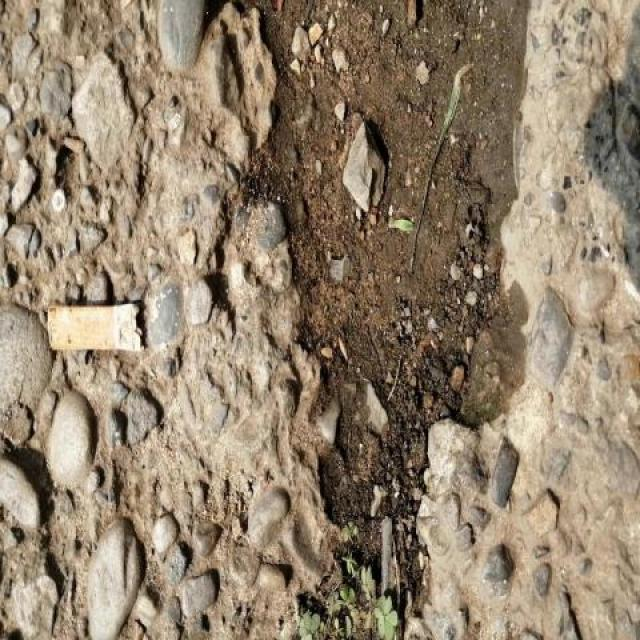non-organic waste: (41, 294, 152, 359)
